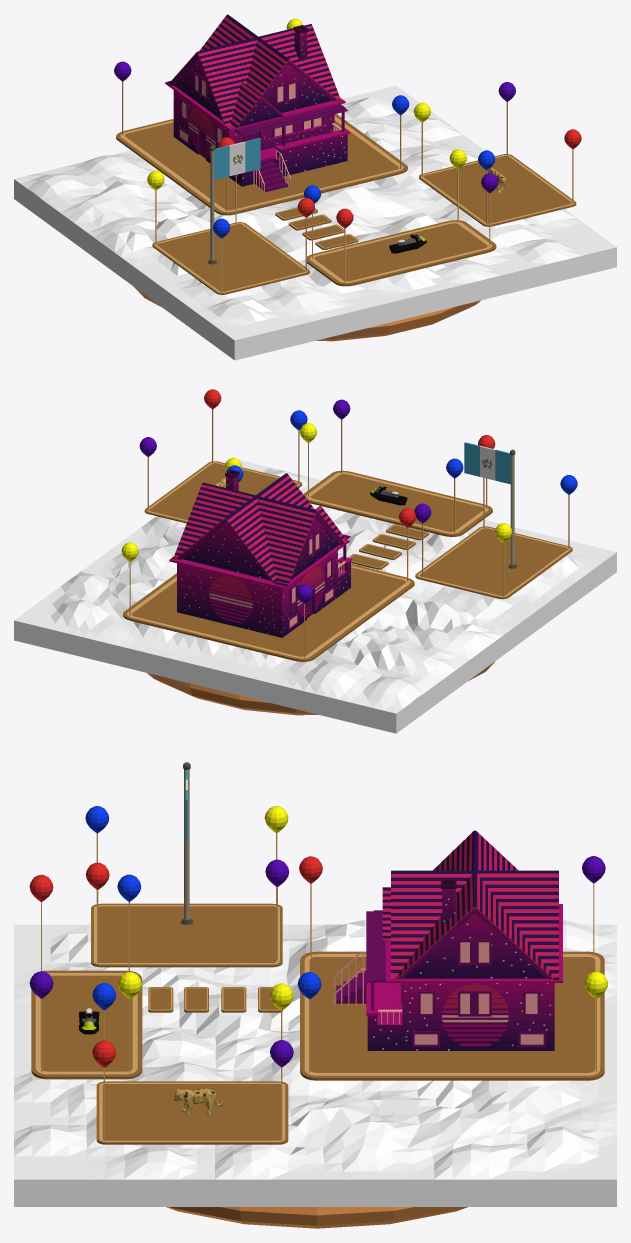
3 views of the same model, one above another, from view 1: azimuth 30°, elevation 25°; view 2: azimuth 150°, elevation 25°; view 3: azimuth 270°, elevation 25° (orthographic). The views are drawn at different scales.
Visible parts, largest first — view 1: Cube.013, Cube.156, OBJRANDOM_GUATEMALAN_FLAG, UNDERGROUND_PIZZA; view 2: Cube.013, Cube.156, OBJRANDOM_GUATEMALAN_FLAG, UNDERGROUND_PIZZA; view 3: Cube.013, Cube.156, UNDERGROUND_PIZZA, OBJRANDOM_GUATEMALAN_FLAG, ANIMAL_JAGUAR.
Part boxes in pixels (x1,y1,x2,y2): Cube.013: [14, 18, 616, 360]; Cube.156: [165, 14, 350, 193]; OBJRANDOM_GUATEMALAN_FLAG: [208, 138, 260, 264]; UNDERGROUND_PIZZA: [133, 286, 480, 341]; Cube.013: [14, 389, 616, 733]; Cube.156: [169, 469, 353, 637]; OBJRANDOM_GUATEMALAN_FLAG: [464, 442, 516, 568]; UNDERGROUND_PIZZA: [147, 661, 495, 715]; Cube.013: [14, 806, 616, 1206]; Cube.156: [333, 830, 562, 1050]; UNDERGROUND_PIZZA: [166, 1207, 467, 1228]; OBJRANDOM_GUATEMALAN_FLAG: [180, 762, 193, 924]; ANIMAL_JAGUAR: [174, 1088, 223, 1115].
Bounding box in the file's own units: 4000 × 1899 × 4000.
38 materials, 3 textured.
